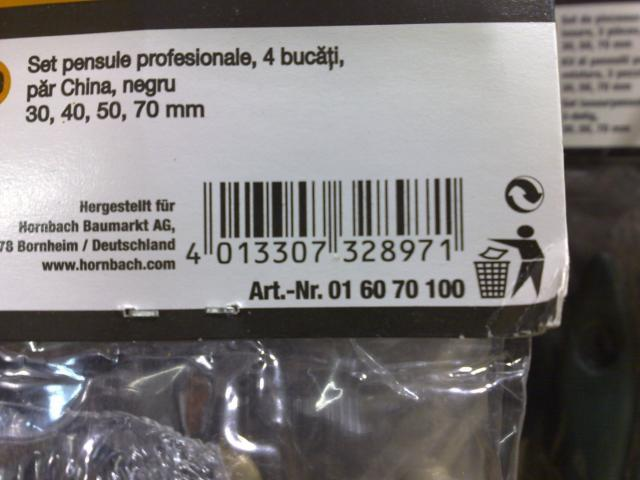Barcode: (181, 168, 472, 274)
